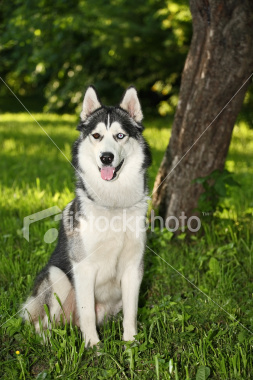dog: (20, 83, 154, 354)
